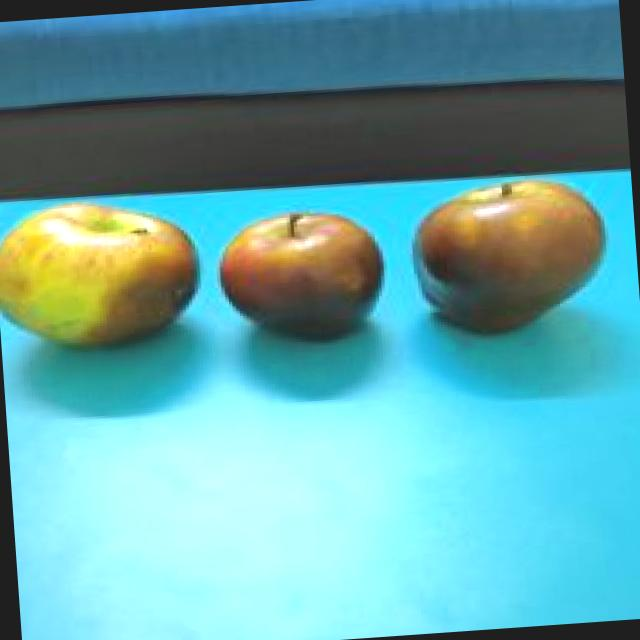Rotten_Apple: (0, 191, 208, 382), (400, 170, 613, 353), (217, 201, 391, 355)
